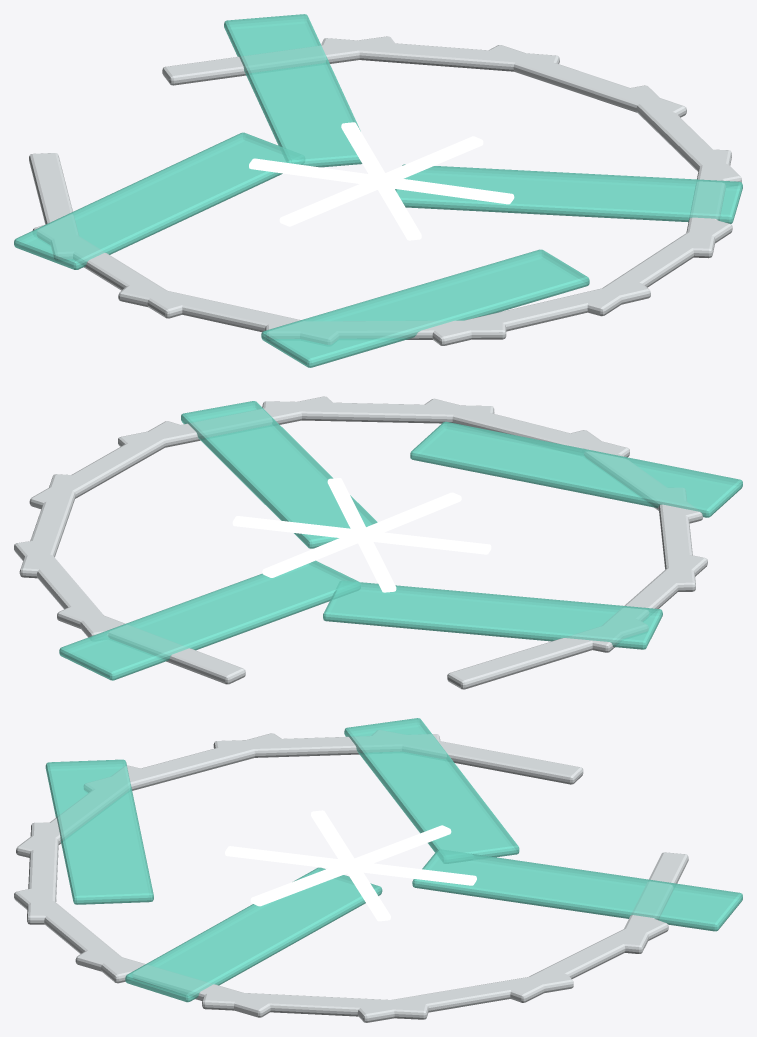
File: cult_wet_chalk_sigil.glb
3 renders of one model, top to bottom at view 1: azimuth 30°, elevation 25°; view 2: azimuth 150°, elevation 25°; view 3: azimuth 270°, elevation 25°, orthographic. The views are drawn at different scales.
Visible parts, largest first — view 1: CULT_WET_CHALK_SIGIL__Wet_Residue_4, CULT_WET_CHALK_SIGIL__Wet_Residue_1, CULT_WET_CHALK_SIGIL__Wet_Residue_2, CULT_WET_CHALK_SIGIL__Wet_Residue_3, CULT_WET_CHALK_SIGIL__Dry_Chalk_01, CULT_WET_CHALK_SIGIL__Dry_Chalk_02, CULT_WET_CHALK_SIGIL__Dry_Chalk_08, CULT_WET_CHALK_SIGIL__Dry_Chalk_03, CULT_WET_CHALK_SIGIL__Dry_Chalk_07, CULT_WET_CHALK_SIGIL__Dry_Chalk_06, CULT_WET_CHALK_SIGIL__Dry_Chalk_10, CULT_WET_CHALK_SIGIL__Dry_Chalk_09 (+6 smaller); view 2: CULT_WET_CHALK_SIGIL__Wet_Residue_4, CULT_WET_CHALK_SIGIL__Wet_Residue_1, CULT_WET_CHALK_SIGIL__Wet_Residue_3, CULT_WET_CHALK_SIGIL__Wet_Residue_2, CULT_WET_CHALK_SIGIL__Dry_Chalk_01, CULT_WET_CHALK_SIGIL__Dry_Chalk_11, CULT_WET_CHALK_SIGIL__Dry_Chalk_06, CULT_WET_CHALK_SIGIL__Dry_Chalk_04, CULT_WET_CHALK_SIGIL__Dry_Chalk_05, CULT_WET_CHALK_SIGIL__Dry_Chalk_10, CULT_WET_CHALK_SIGIL__Dry_Chalk_02, CULT_WET_CHALK_SIGIL__Reaction_Channel_1 (+6 smaller); view 3: CULT_WET_CHALK_SIGIL__Wet_Residue_3, CULT_WET_CHALK_SIGIL__Wet_Residue_4, CULT_WET_CHALK_SIGIL__Wet_Residue_1, CULT_WET_CHALK_SIGIL__Wet_Residue_2, CULT_WET_CHALK_SIGIL__Dry_Chalk_04, CULT_WET_CHALK_SIGIL__Dry_Chalk_11, CULT_WET_CHALK_SIGIL__Dry_Chalk_03, CULT_WET_CHALK_SIGIL__Dry_Chalk_10, CULT_WET_CHALK_SIGIL__Dry_Chalk_02, CULT_WET_CHALK_SIGIL__Dry_Chalk_09, CULT_WET_CHALK_SIGIL__Dry_Chalk_05, CULT_WET_CHALK_SIGIL__Dry_Chalk_06 (+6 smaller).
Boxes of the visible parts, left/top/right/bottom form: CULT_WET_CHALK_SIGIL__Wet_Residue_4: left=261, top=249, right=589, bottom=367; CULT_WET_CHALK_SIGIL__Wet_Residue_1: left=14, top=132, right=304, bottom=269; CULT_WET_CHALK_SIGIL__Wet_Residue_2: left=395, top=164, right=742, bottom=223; CULT_WET_CHALK_SIGIL__Wet_Residue_3: left=224, top=14, right=362, bottom=167; CULT_WET_CHALK_SIGIL__Dry_Chalk_01: left=162, top=36, right=394, bottom=85; CULT_WET_CHALK_SIGIL__Dry_Chalk_02: left=321, top=38, right=559, bottom=71; CULT_WET_CHALK_SIGIL__Dry_Chalk_08: left=265, top=320, right=506, bottom=339; CULT_WET_CHALK_SIGIL__Dry_Chalk_03: left=487, top=45, right=686, bottom=117; CULT_WET_CHALK_SIGIL__Dry_Chalk_07: left=432, top=282, right=650, bottom=345; CULT_WET_CHALK_SIGIL__Dry_Chalk_06: left=583, top=220, right=732, bottom=316; CULT_WET_CHALK_SIGIL__Dry_Chalk_10: left=32, top=224, right=186, bottom=318; CULT_WET_CHALK_SIGIL__Dry_Chalk_09: left=118, top=284, right=338, bottom=344; CULT_WET_CHALK_SIGIL__Wet_Residue_4: left=410, top=421, right=742, bottom=517; CULT_WET_CHALK_SIGIL__Wet_Residue_1: left=323, top=580, right=662, bottom=649; CULT_WET_CHALK_SIGIL__Wet_Residue_3: left=59, top=560, right=360, bottom=680; CULT_WET_CHALK_SIGIL__Wet_Residue_2: left=181, top=401, right=377, bottom=548; CULT_WET_CHALK_SIGIL__Dry_Chalk_01: left=57, top=605, right=245, bottom=684; CULT_WET_CHALK_SIGIL__Dry_Chalk_11: left=447, top=619, right=648, bottom=689; CULT_WET_CHALK_SIGIL__Dry_Chalk_06: left=262, top=401, right=494, bottom=423; CULT_WET_CHALK_SIGIL__Dry_Chalk_04: left=29, top=421, right=184, bottom=508; CULT_WET_CHALK_SIGIL__Dry_Chalk_05: left=118, top=396, right=333, bottom=447; CULT_WET_CHALK_SIGIL__Dry_Chalk_10: left=588, top=554, right=707, bottom=652; CULT_WET_CHALK_SIGIL__Dry_Chalk_02: left=14, top=540, right=112, bottom=637; CULT_WET_CHALK_SIGIL__Reaction_Channel_1: left=232, top=516, right=491, bottom=554; CULT_WET_CHALK_SIGIL__Wet_Residue_3: left=412, top=849, right=742, bottom=931; CULT_WET_CHALK_SIGIL__Wet_Residue_4: left=45, top=759, right=153, bottom=904; CULT_WET_CHALK_SIGIL__Wet_Residue_1: left=344, top=718, right=519, bottom=863; CULT_WET_CHALK_SIGIL__Wet_Residue_2: left=125, top=867, right=382, bottom=1002; CULT_WET_CHALK_SIGIL__Dry_Chalk_04: left=202, top=991, right=428, bottom=1019; CULT_WET_CHALK_SIGIL__Dry_Chalk_11: left=371, top=730, right=583, bottom=784; CULT_WET_CHALK_SIGIL__Dry_Chalk_03: left=357, top=973, right=573, bottom=1022; CULT_WET_CHALK_SIGIL__Dry_Chalk_10: left=213, top=734, right=440, bottom=757; CULT_WET_CHALK_SIGIL__Dry_Chalk_02: left=507, top=918, right=668, bottom=1002; CULT_WET_CHALK_SIGIL__Dry_Chalk_09: left=84, top=733, right=282, bottom=792; CULT_WET_CHALK_SIGIL__Dry_Chalk_05: left=75, top=948, right=271, bottom=1017; CULT_WET_CHALK_SIGIL__Dry_Chalk_06: left=14, top=888, right=135, bottom=983.
Size of the model in its own units: 0.8639 by 0.024 by 0.9.
